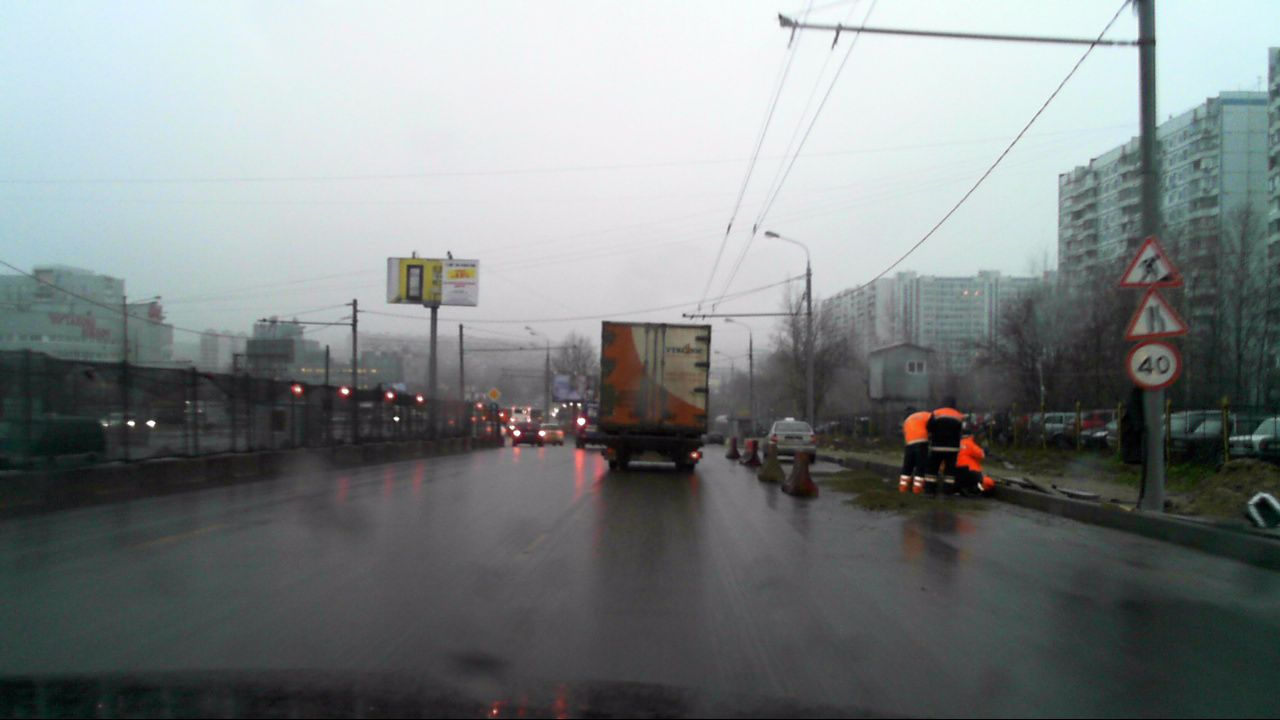speed_warning_40: (1128, 342, 1179, 388)
